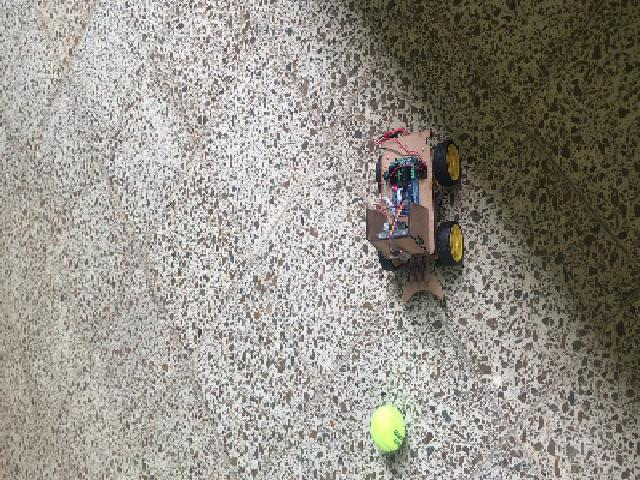Ball: (370, 407, 403, 451)
Robot: (366, 131, 466, 301)
